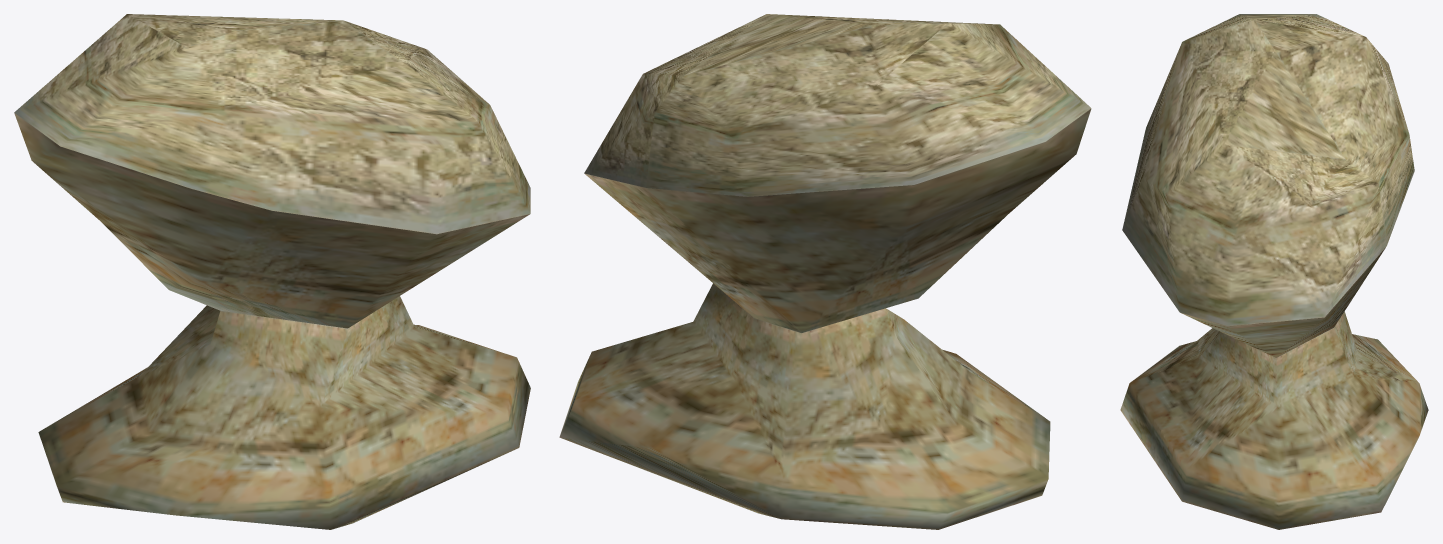
Rendered from dsrt_endr_column_a2_l2.fbx.
3 renders of one model, left to right at view 1: azimuth 30°, elevation 25°; view 2: azimuth 150°, elevation 25°; view 3: azimuth 270°, elevation 25°, orthographic. The views are drawn at different scales.
Parts seen in each view (by area): view 1: mesh_node; view 2: mesh_node; view 3: mesh_node.
Part boxes in pixels (box(x1,y1,x2,y2)): mesh_node: box(14, 14, 530, 529); mesh_node: box(559, 14, 1091, 529); mesh_node: box(1120, 14, 1428, 529).
Bounding box in the file's own units: 12.96 × 12.38 × 8.31.
1 material, 1 textured.
